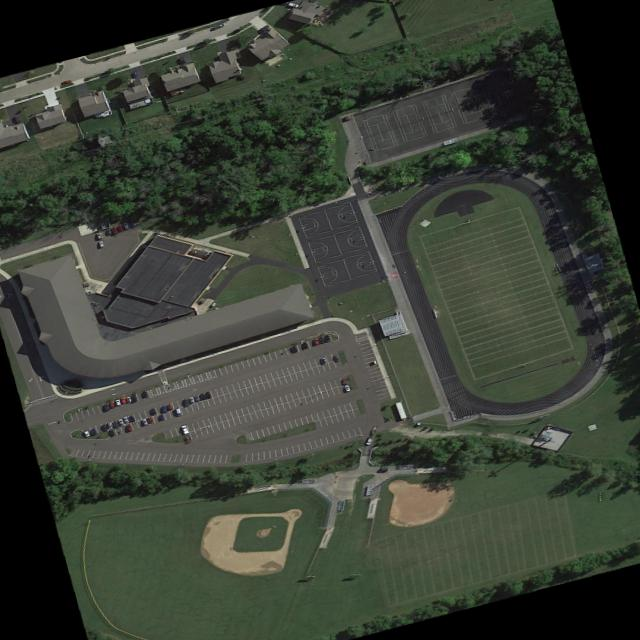small-vehicle: (214, 21, 226, 29), (181, 398, 191, 407), (174, 407, 183, 416), (102, 402, 111, 411), (365, 435, 374, 444), (181, 424, 189, 434), (60, 78, 71, 85), (340, 377, 349, 385), (100, 424, 109, 432), (117, 417, 125, 426), (160, 404, 168, 413), (183, 433, 191, 442), (287, 1, 299, 7), (130, 394, 138, 403), (343, 383, 351, 392), (312, 337, 320, 346), (125, 424, 133, 432), (109, 400, 117, 408), (116, 223, 124, 231), (332, 354, 340, 362), (301, 341, 309, 349), (193, 394, 201, 402), (112, 420, 119, 429), (141, 417, 148, 426), (82, 429, 91, 436), (320, 356, 327, 365), (199, 392, 206, 401), (125, 395, 132, 403), (106, 420, 113, 428), (149, 408, 157, 415), (111, 226, 118, 234), (324, 334, 331, 342), (318, 336, 325, 344), (290, 345, 297, 353), (205, 391, 212, 399), (188, 396, 195, 404), (141, 390, 148, 398), (123, 415, 129, 424), (263, 24, 272, 30), (147, 416, 154, 423), (90, 428, 97, 435), (120, 396, 127, 403), (123, 222, 130, 229), (96, 232, 103, 239), (159, 413, 165, 421), (115, 398, 121, 406), (167, 402, 173, 410), (98, 240, 104, 247), (106, 228, 112, 234), (132, 71, 137, 77)
